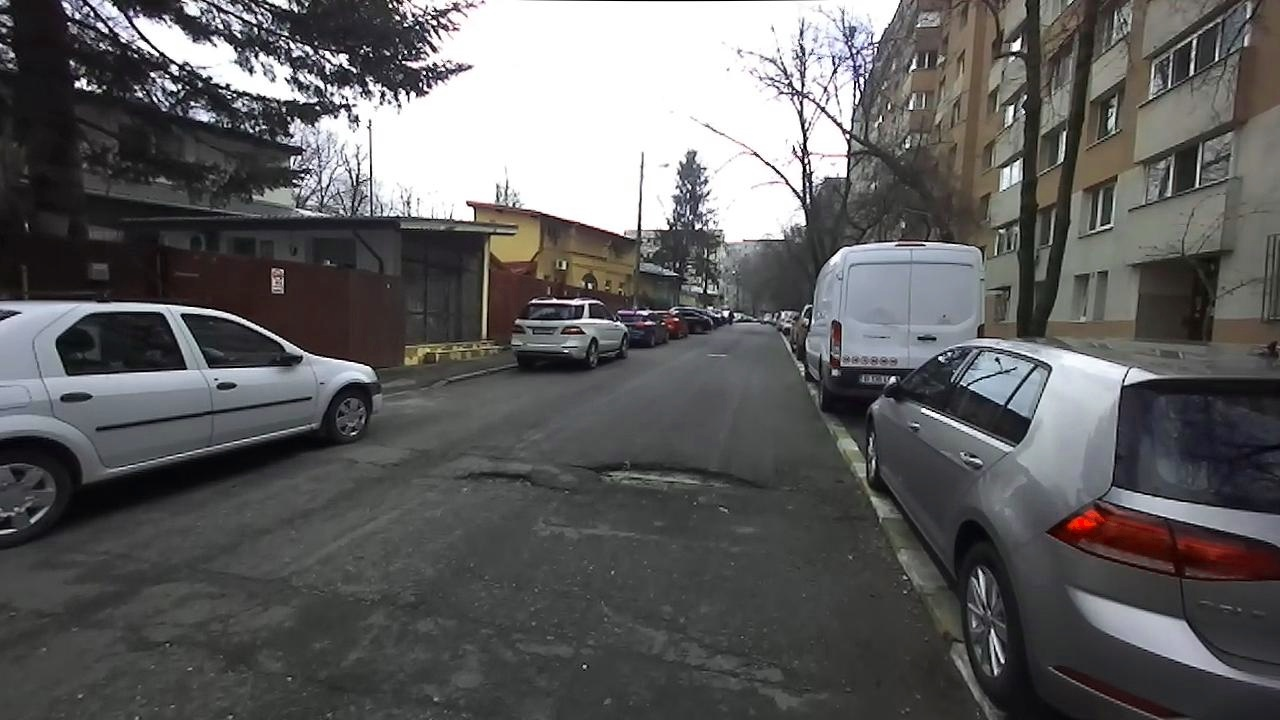pothole: (571, 456, 774, 496), (452, 465, 559, 492)
